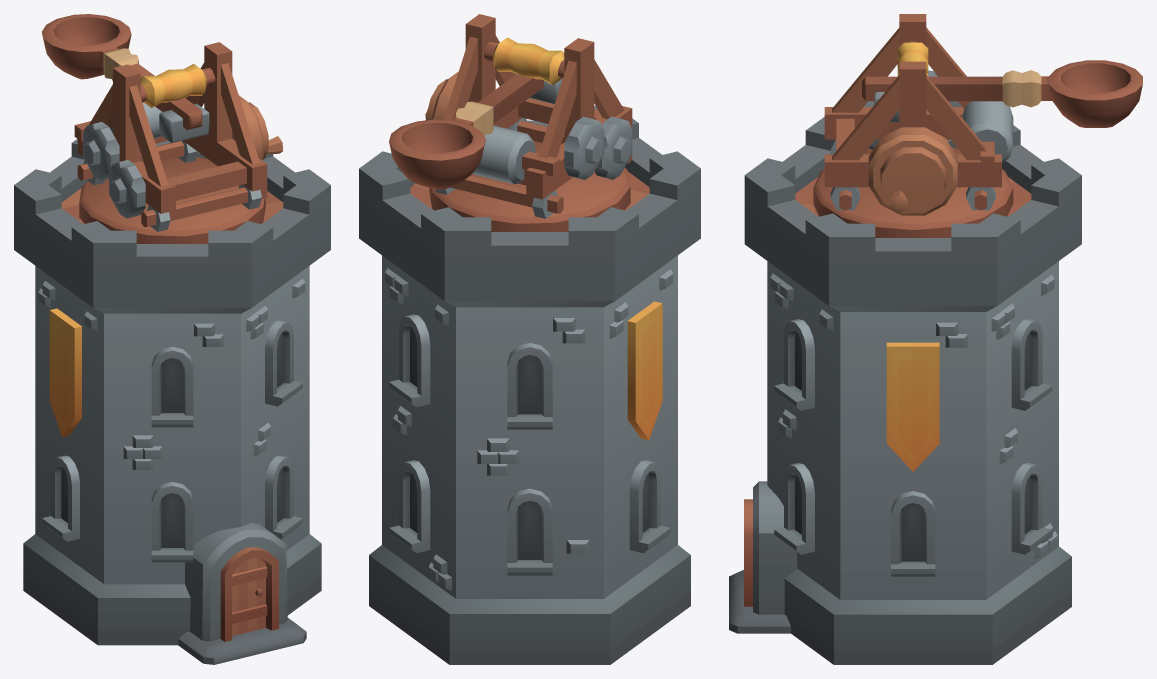
Rendered from building_tower_catapult_yellow.glb.
The picture shows the model from 3 angles, left to right: view 1: azimuth 30°, elevation 25°; view 2: azimuth 150°, elevation 25°; view 3: azimuth 270°, elevation 25°; orthographic projection. The views are drawn at different scales.
Parts seen in each view (by area): view 1: building_tower_catapult_yellow, catapult_turret_yellow, catapult_arm_yellow; view 2: building_tower_catapult_yellow, catapult_turret_yellow, catapult_arm_yellow; view 3: building_tower_catapult_yellow, catapult_turret_yellow, catapult_arm_yellow.
Boxes of the visible parts, x1,y1,x2,y2 form: building_tower_catapult_yellow: [14, 139, 330, 664]; catapult_turret_yellow: [74, 42, 283, 243]; catapult_arm_yellow: [42, 14, 209, 142]; building_tower_catapult_yellow: [359, 106, 700, 664]; catapult_turret_yellow: [425, 14, 632, 231]; catapult_arm_yellow: [389, 74, 562, 189]; building_tower_catapult_yellow: [729, 117, 1081, 664]; catapult_turret_yellow: [813, 14, 1013, 237]; catapult_arm_yellow: [862, 60, 1142, 127].
Size of the model in its own units: 0.9297 by 1.96 by 1.3.
1 material, 1 textured.
